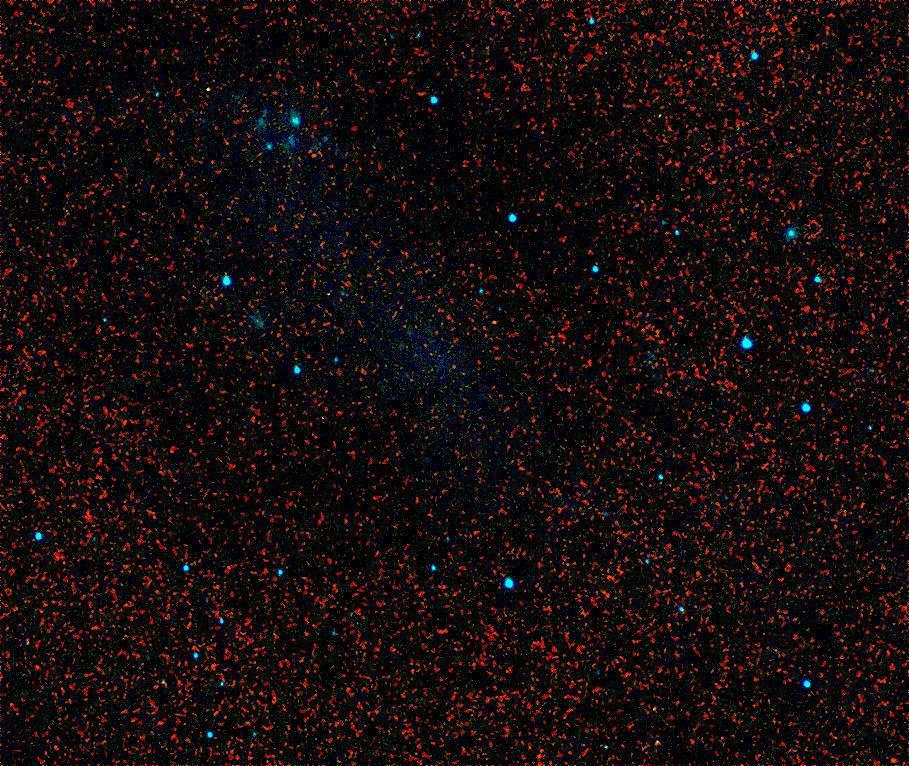star: (441, 354, 471, 384)
